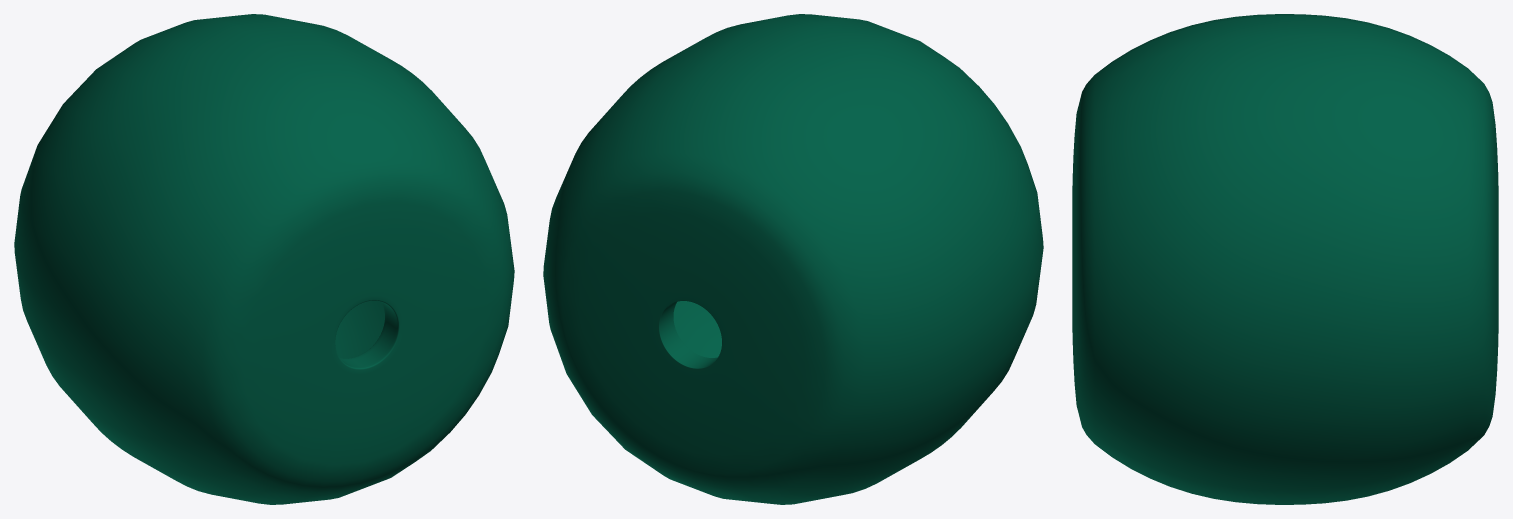
The model's file is 绿玛瑙1.glb.
3 views of the same model, side by side, from view 1: azimuth 30°, elevation 25°; view 2: azimuth 150°, elevation 25°; view 3: azimuth 270°, elevation 25° (orthographic). The views are drawn at different scales.
Visible parts, largest first — view 1: 物件_430.002; view 2: 物件_430.002; view 3: 物件_430.002.
Boxes of the visible parts, x1,y1,x2,y2 form: 物件_430.002: (14, 14, 514, 504); 物件_430.002: (543, 14, 1043, 504); 物件_430.002: (1072, 14, 1498, 504).
Size of the model in its own units: 0.0082 by 0.0082 by 0.0071.
